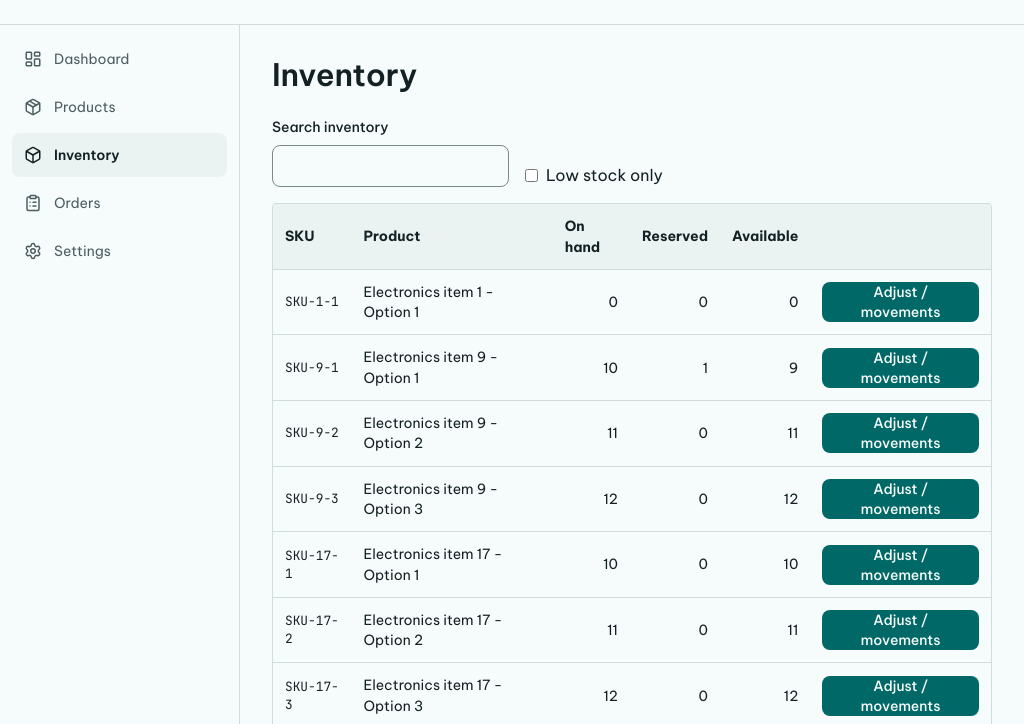
seller routes › shows an inventory validation failure without changing stock
Click the button "Adjust / movements" in the row of "SKU-1-1" at (901, 302), box [822,282,979,322]
(page scrolled)
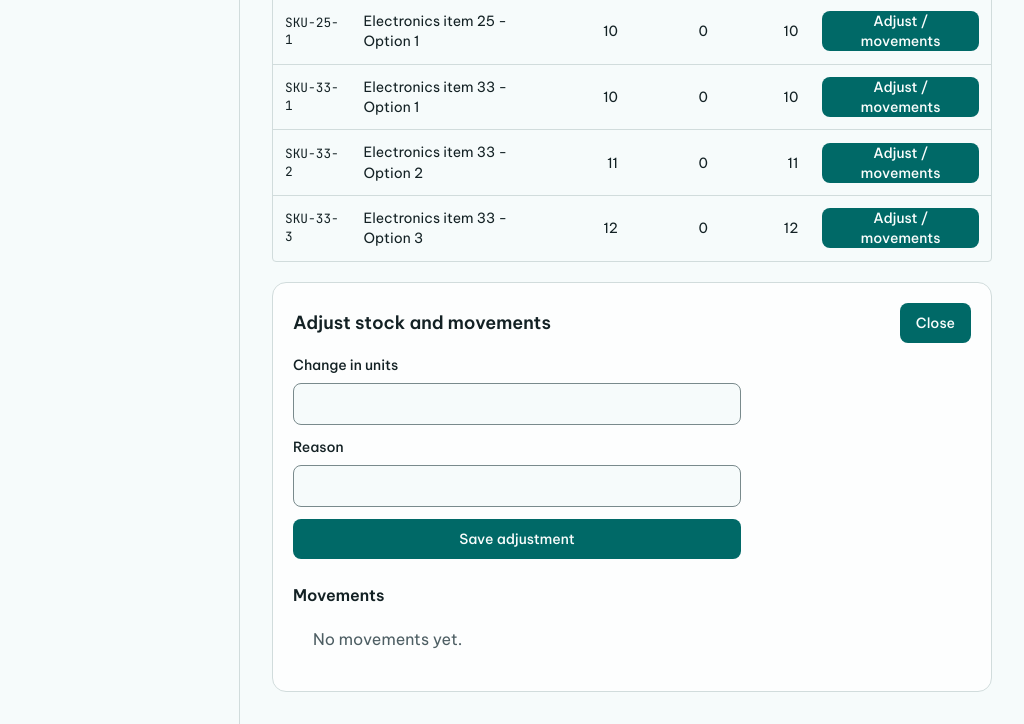
Type "-999999" into the number field labelled "Change in units" at (517, 404), box [293,383,741,425]
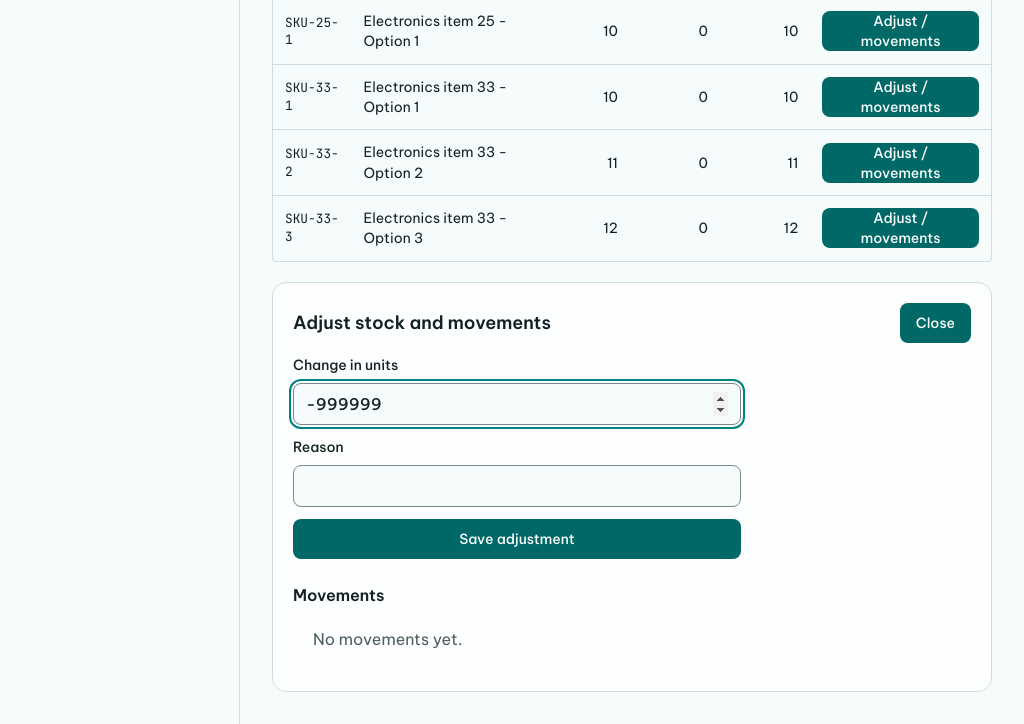
Type "Invalid count" into the field labelled "Reason" at (517, 486), box [293,465,741,507]
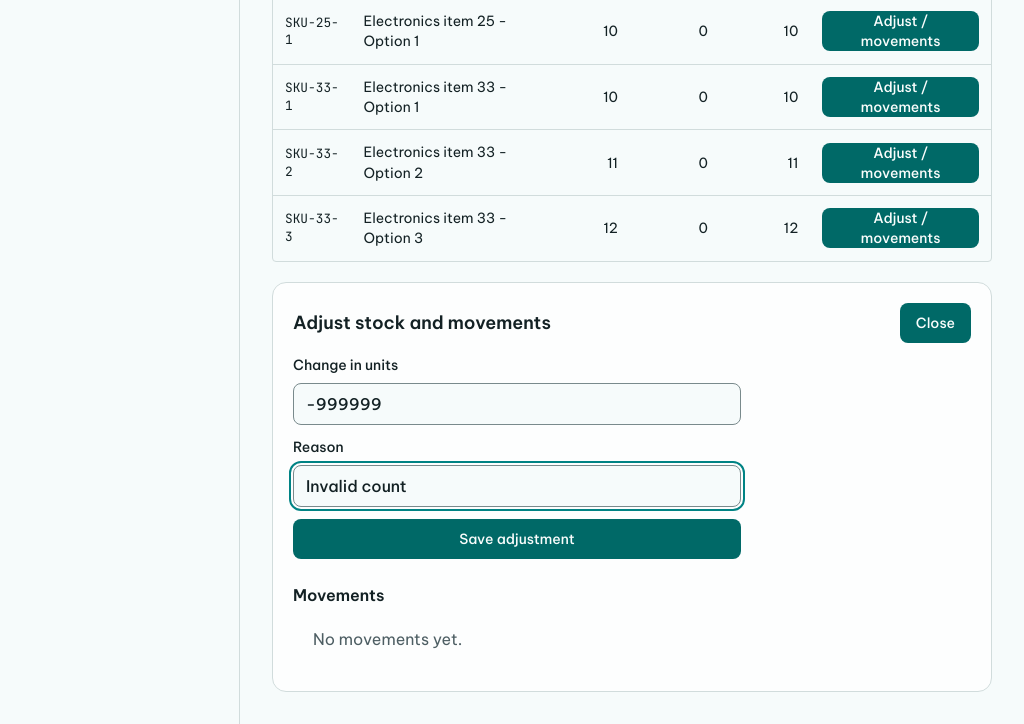
Click the button "Save adjustment" at (517, 539), box [293,519,741,559]
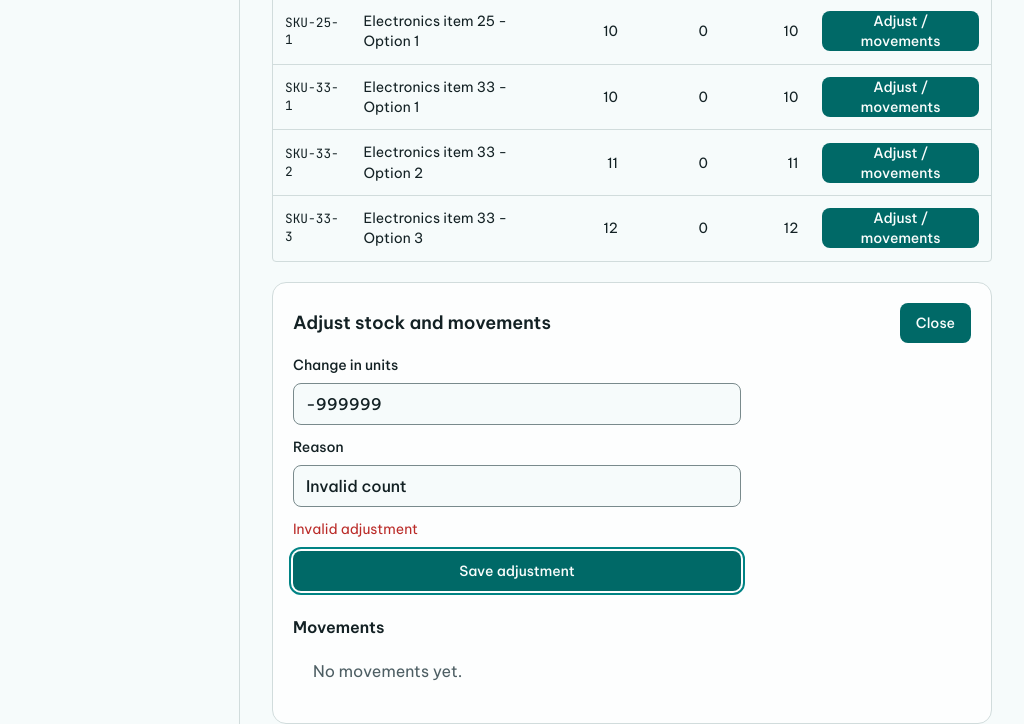
Expected: the message reads "Invalid adjustment", [293,520,418,538]
